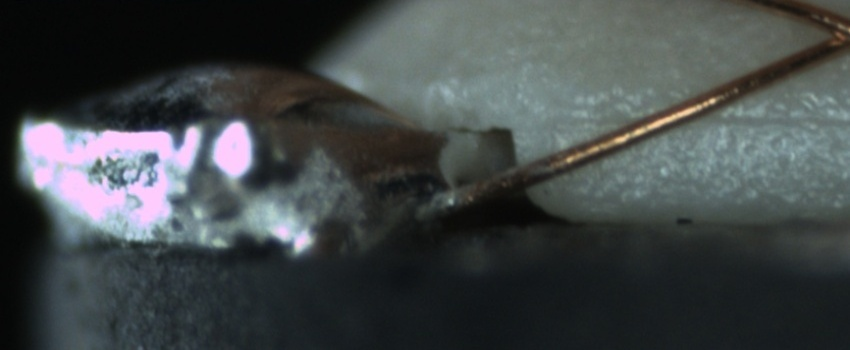CL: (798, 5, 850, 62)
DL: (552, 86, 850, 147)
